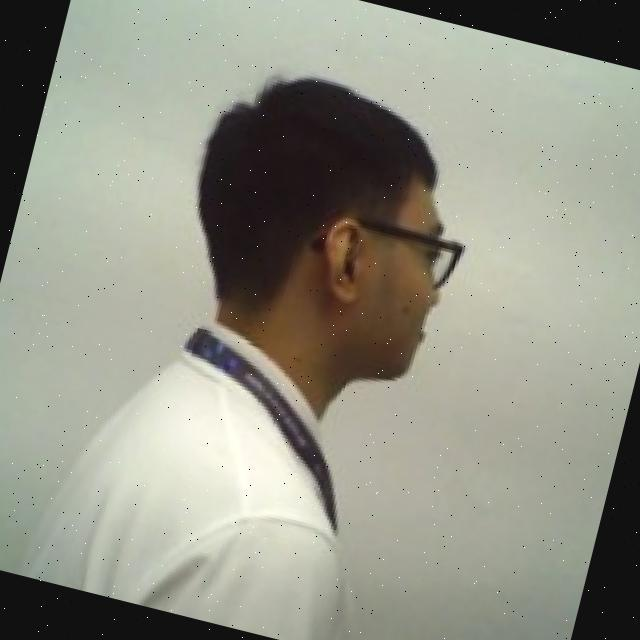no_gloves: (158, 49, 460, 346)
no_hairnet: (288, 209, 474, 404)
